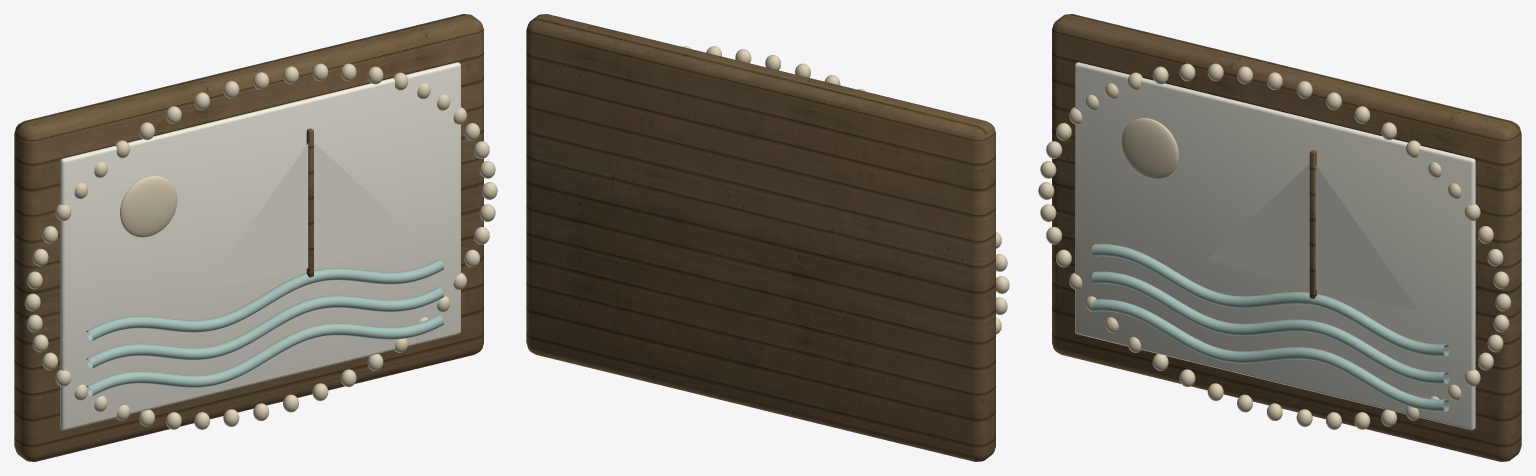
The model's file is nautical_wall_set.glb.
The picture shows the model from 3 angles, left to right: view 1: azimuth 30°, elevation 25°; view 2: azimuth 150°, elevation 25°; view 3: azimuth 330°, elevation 25°; orthographic projection.
Parts seen in each view (by area): view 1: Cube.001, Cube, onda_entalhada, sol, vela; view 2: Cube, sol; view 3: Cube.001, Cube, onda_entalhada, sol, vela.
Boxes of the visible parts, x1,y1,x2,y2 form: Cube.001: (60, 62, 460, 430); Cube: (14, 14, 483, 461); onda_entalhada: (86, 259, 443, 396); sol: (24, 63, 497, 429); vela: (206, 142, 415, 288); Cube: (526, 14, 995, 461); sol: (683, 46, 1009, 334); Cube.001: (1075, 62, 1475, 430); Cube: (1052, 14, 1521, 461); onda_entalhada: (1092, 244, 1449, 411); sol: (1038, 63, 1511, 429); vela: (1208, 164, 1417, 310).
Size of the model in its own units: 1.07 by 0.756 by 0.118.
Materials: 5 (1 with a texture image).
